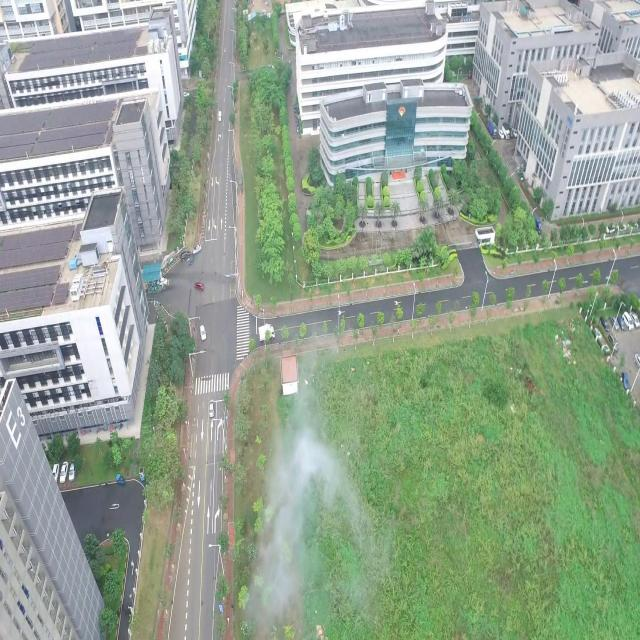smoke: (246, 432, 366, 628)
